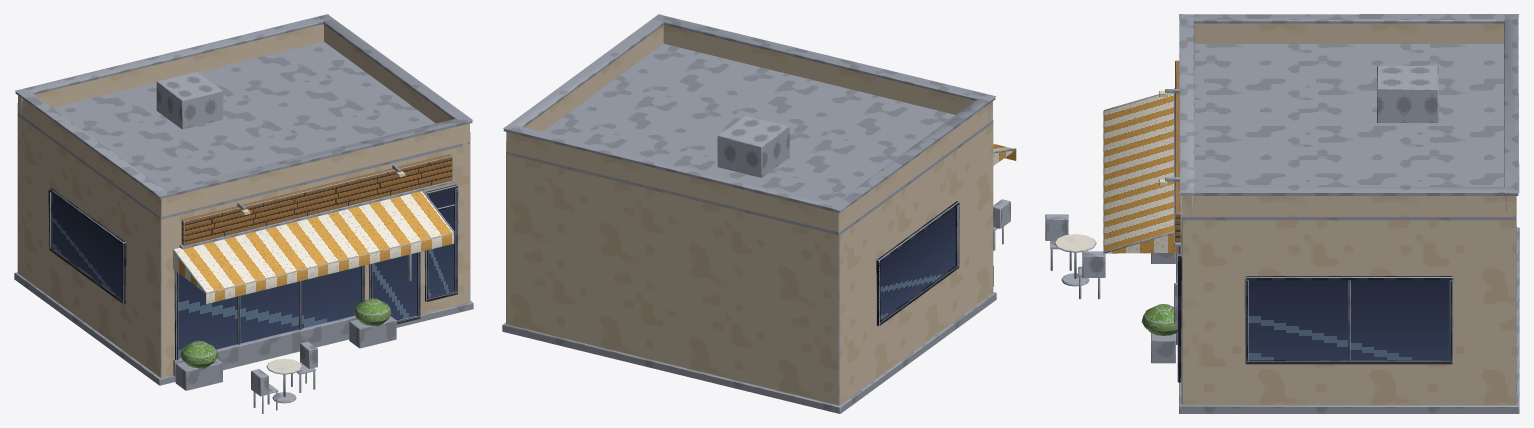
File: modern_shop_2.glb
3 renders of one model, left to right at view 1: azimuth 30°, elevation 25°; view 2: azimuth 150°, elevation 25°; view 3: azimuth 270°, elevation 25°, orthographic. The views are drawn at different scales.
Visible parts, largest first — view 1: modern_shop_3; view 2: modern_shop_3; view 3: modern_shop_3.
Part boxes in pixels (x1,y1,x2,y2): modern_shop_3: [14, 14, 473, 413]; modern_shop_3: [502, 14, 1016, 413]; modern_shop_3: [1045, 14, 1519, 413].
Bounding box in the file's own units: 7.64 × 4.55 × 8.49.
Materials: 10 (10 with a texture image).
